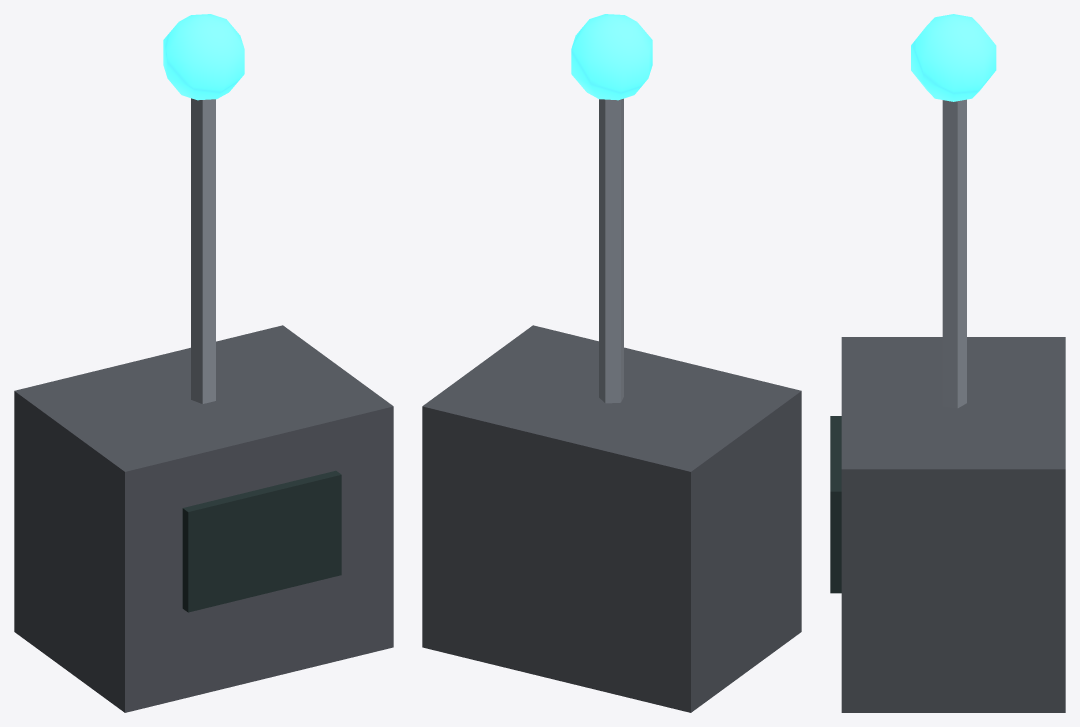
The model's file is Prop_Detector_B.fbx.
The picture shows the model from 3 angles, left to right: view 1: azimuth 30°, elevation 25°; view 2: azimuth 150°, elevation 25°; view 3: azimuth 270°, elevation 25°; orthographic projection.
Visible parts, largest first — view 1: Prop_Detector_B; view 2: Prop_Detector_B; view 3: Prop_Detector_B.
Boxes of the visible parts, left/top/right/bottom form: Prop_Detector_B: left=14, top=14, right=393, bottom=712; Prop_Detector_B: left=422, top=14, right=801, bottom=712; Prop_Detector_B: left=830, top=14, right=1065, bottom=712.
Bounding box in the file's own units: 0.07 × 0.155 × 0.0525.
